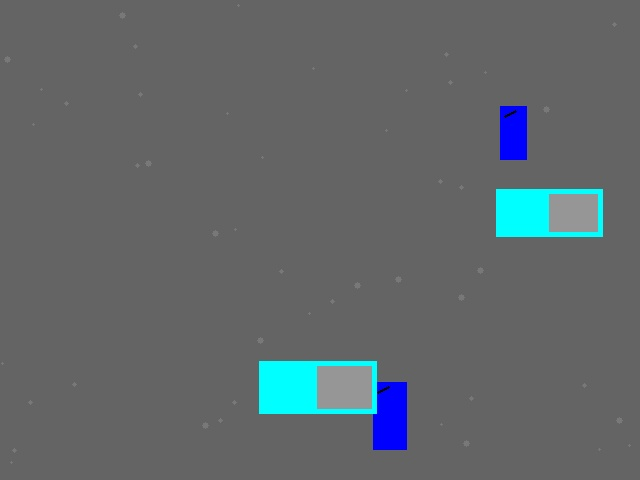motorcycle: (373, 382, 406, 449), (500, 106, 526, 159)
truck: (259, 361, 376, 413), (496, 189, 602, 236)
